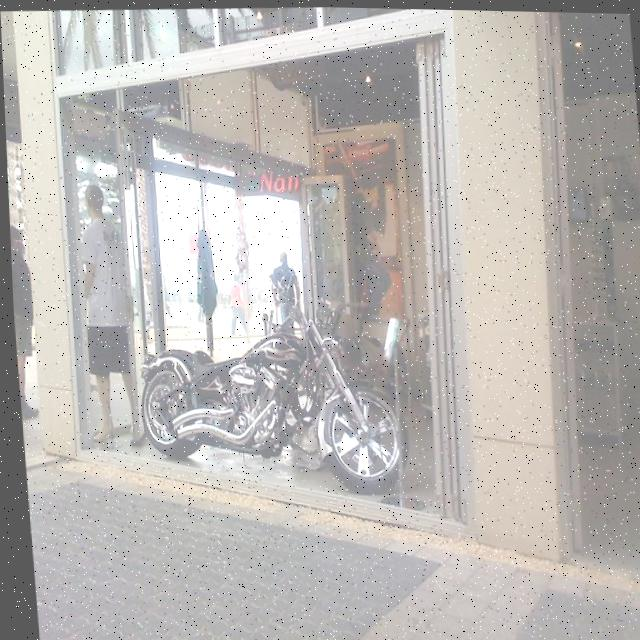motorcycle: (118, 315, 416, 485)
